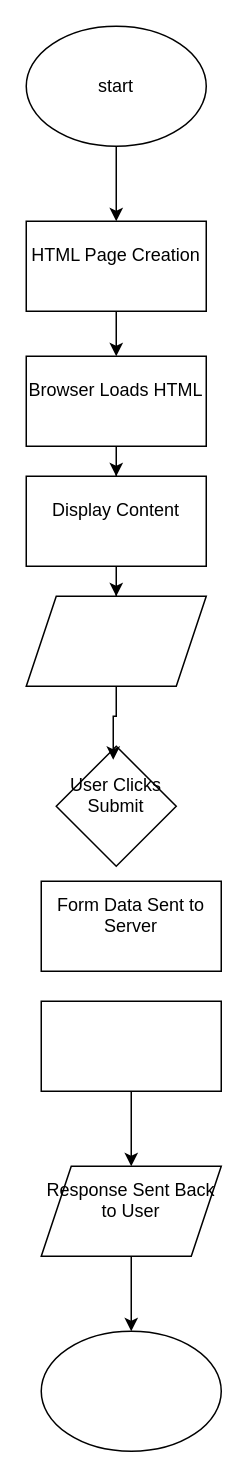
Image size: 248x1478. Some labels were removed from this diagram. The shapes that lost their labels are listed below. From the top down, each one's box as (x1, y1, x2, y2) in pixels, then its label:
(25, 595, 206, 686): User Interacts with Page
(40, 1000, 221, 1091): Server Processes Data
(40, 1330, 221, 1451): End
